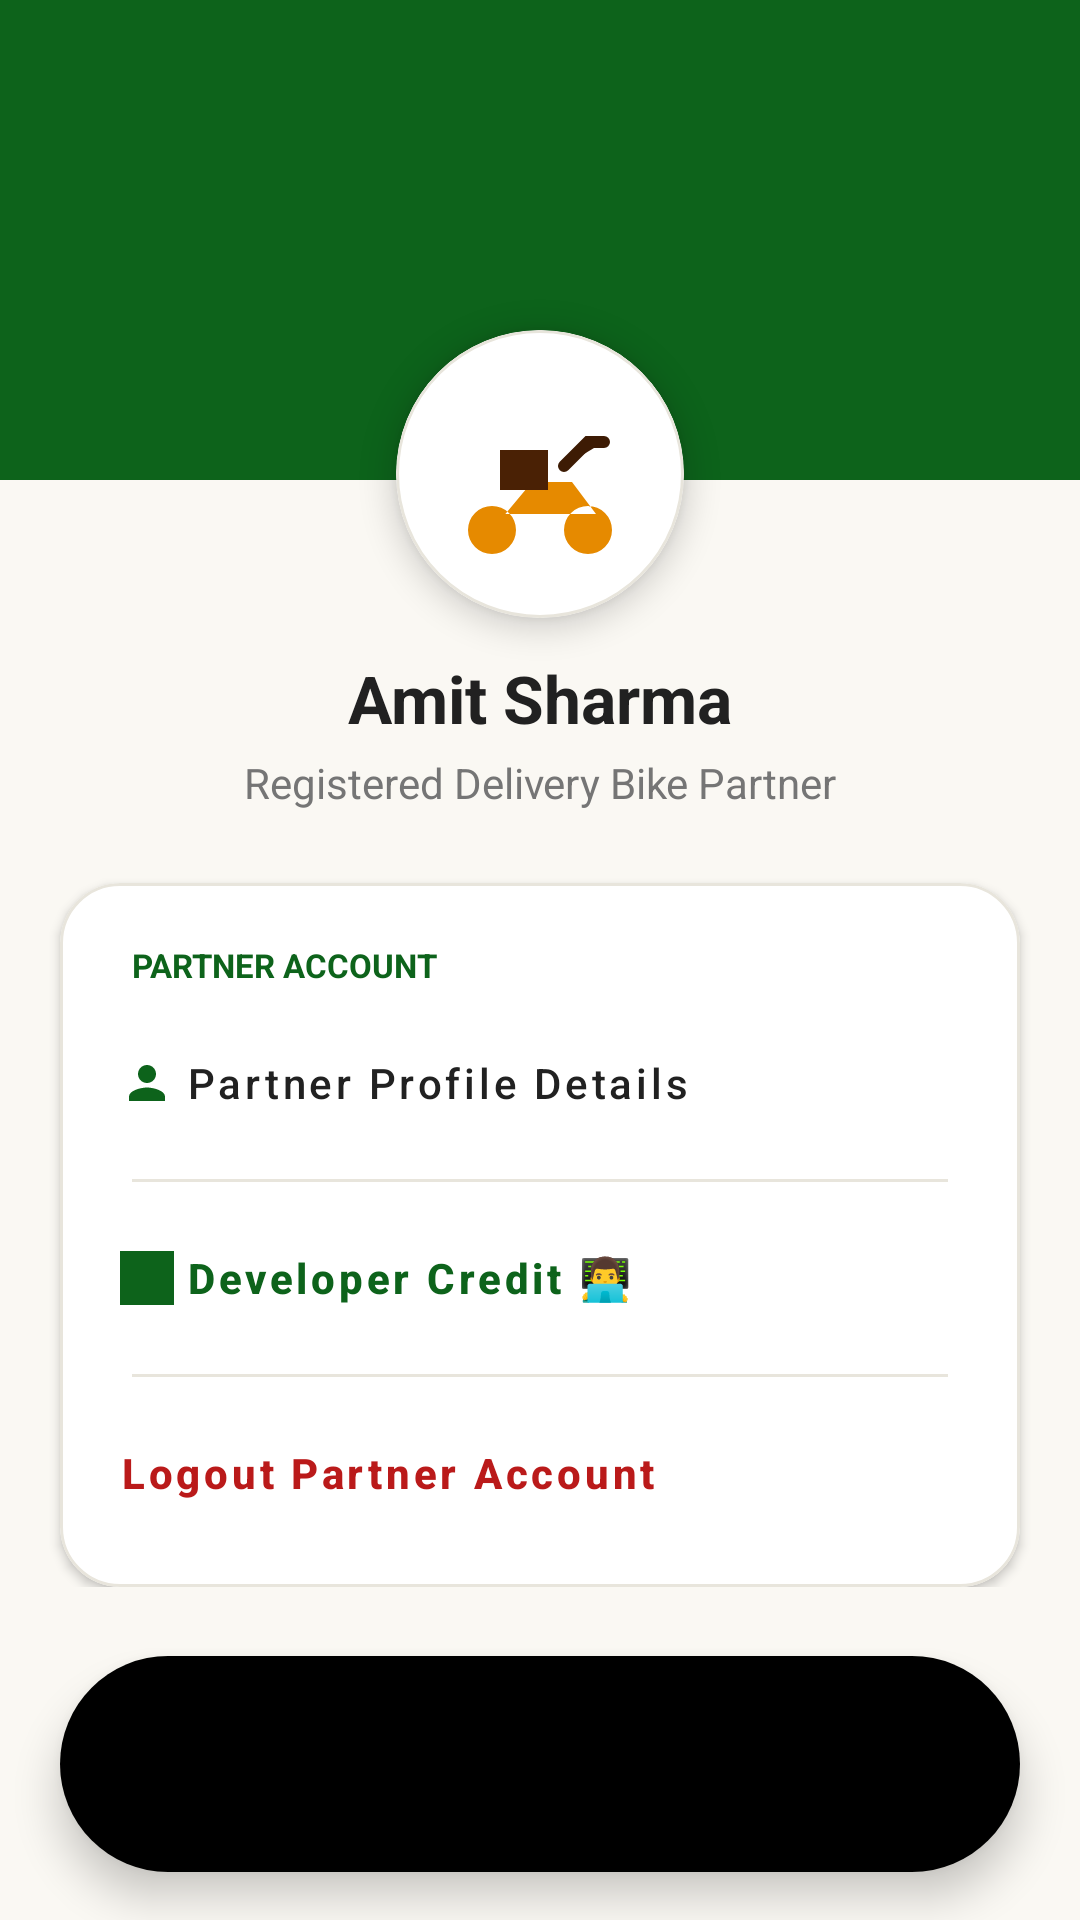

Icon click points for this 1080×1920 phone screenshot, format point (x, y):
Delivery Partner Avatar: point (540, 474)
